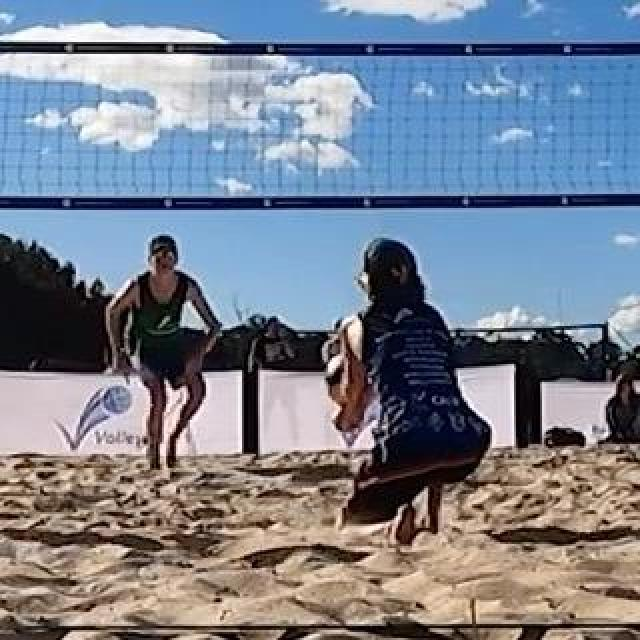volleyball: (324, 355, 382, 405)
